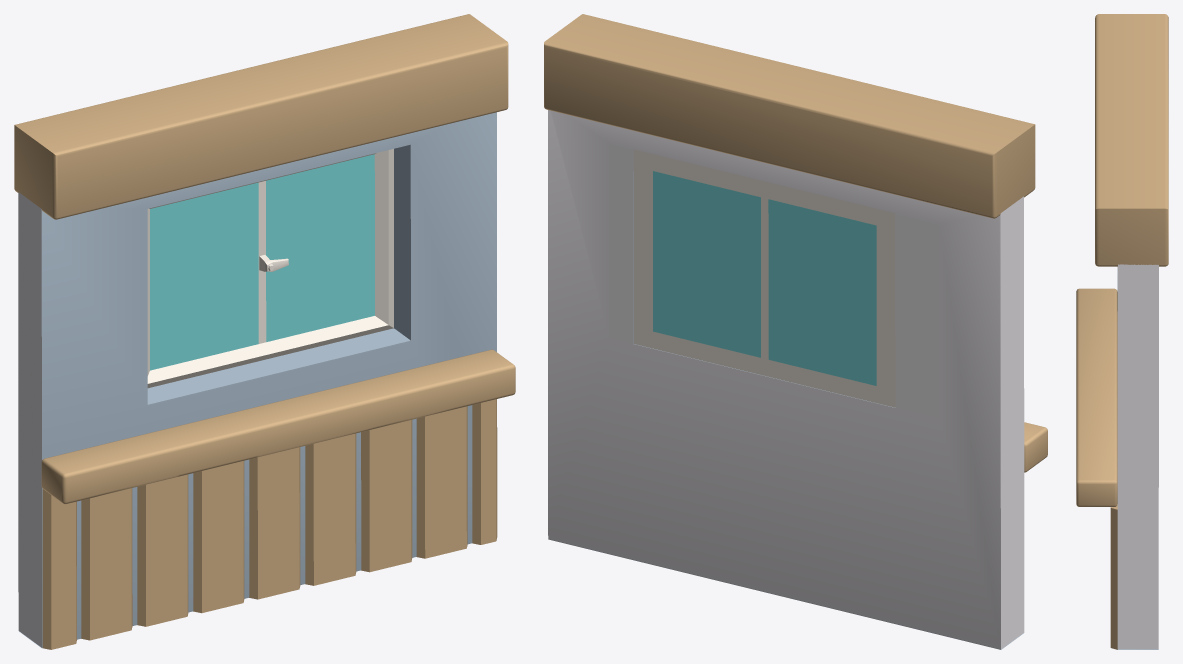
The model's file is kısa_duvar.fbx.
3 views of the same model, side by side, from view 1: azimuth 30°, elevation 25°; view 2: azimuth 150°, elevation 25°; view 3: azimuth 270°, elevation 25° (orthographic). The views are drawn at different scales.
Parts seen in each view (by area): view 1: Cube.137, Cube.136, Cube.138, Cube.140, Cube.009, Cube.005, Cube.135; view 2: Cube.137, Cube.138, Cube.009, Cube.005, Cube.135, Cube.140; view 3: Cube.138, Cube.137, Cube.140, Cube.136.
Boxes of the visible parts, left/top/right/bottom form: Cube.137: left=18, top=112, right=496, bottom=647; Cube.136: left=42, top=399, right=497, bottom=649; Cube.138: left=14, top=14, right=508, bottom=219; Cube.140: left=41, top=349, right=515, bottom=504; Cube.009: left=150, top=182, right=258, bottom=370; Cube.005: left=266, top=154, right=374, bottom=341; Cube.135: left=147, top=149, right=393, bottom=388; Cube.137: left=548, top=110, right=1024, bottom=649; Cube.138: left=544, top=14, right=1035, bottom=218; Cube.009: left=768, top=199, right=876, bottom=385; Cube.005: left=653, top=171, right=760, bottom=357; Cube.135: left=633, top=149, right=895, bottom=407; Cube.140: left=1024, top=422, right=1047, bottom=472; Cube.138: left=1095, top=14, right=1168, bottom=266; Cube.137: left=1117, top=264, right=1158, bottom=649; Cube.140: left=1076, top=288, right=1117, bottom=506; Cube.136: left=1110, top=504, right=1117, bottom=649.
Size of the model in its own units: 869 by 914 by 174.
